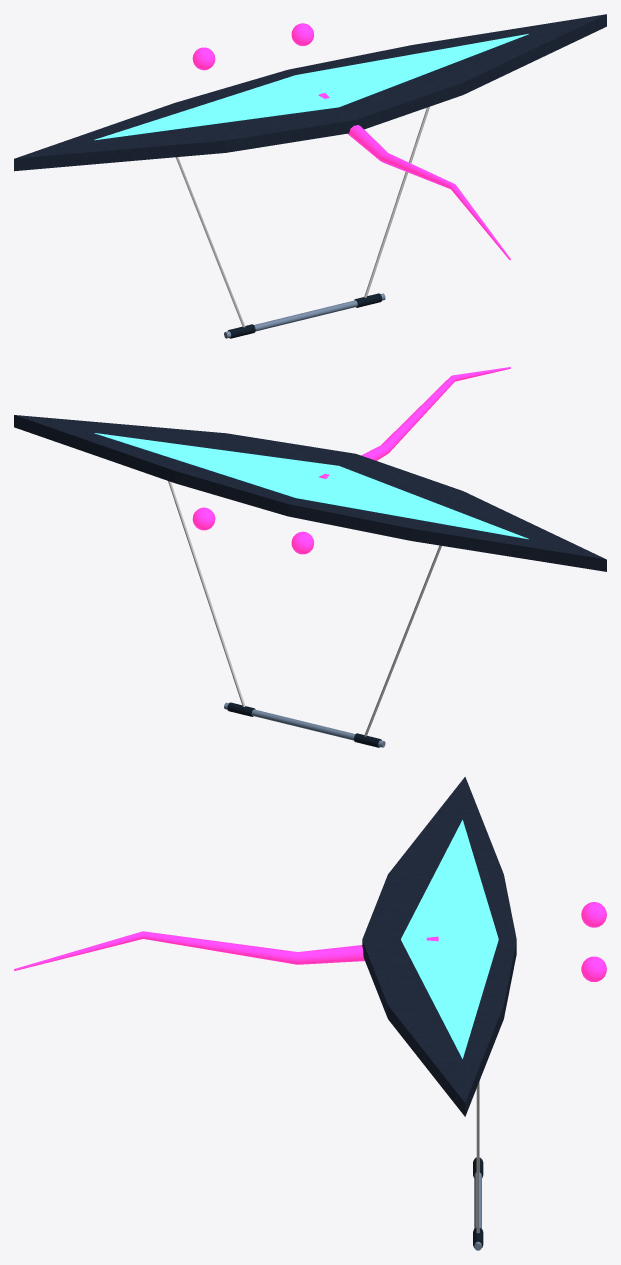
The model's file is glider_kite_ray.glb.
The picture shows the model from 3 angles, top to bottom: view 1: azimuth 30°, elevation 25°; view 2: azimuth 150°, elevation 25°; view 3: azimuth 270°, elevation 25°; orthographic projection. The views are drawn at different scales.
Visible parts, largest first — view 1: glider_kite_ray; view 2: glider_kite_ray; view 3: glider_kite_ray.
Part boxes in pixels (box(x1,y1,x2,y2)): glider_kite_ray: box(14, 14, 606, 338); glider_kite_ray: box(14, 367, 606, 747); glider_kite_ray: box(14, 777, 606, 1250).
Size of the model in its own units: 3 by 1.19 by 2.3.
Materials: 6 (2 with a texture image).
